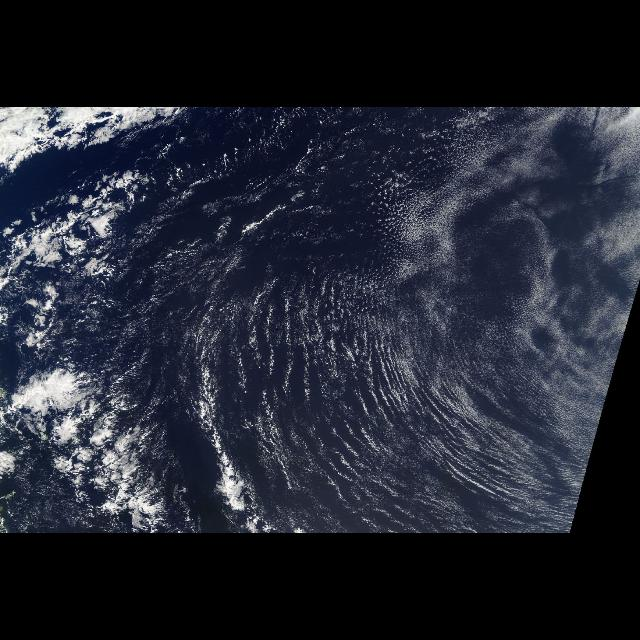Sugar: (56, 110, 640, 532)
